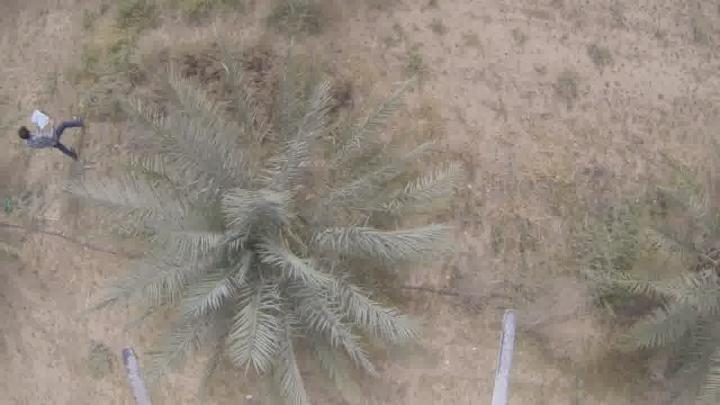Date-Palm-Crown: (136, 117, 386, 340), (676, 205, 720, 348)
